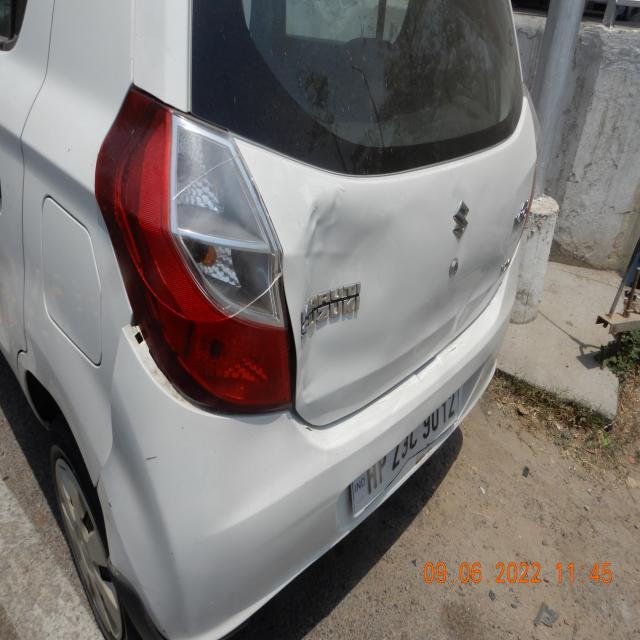damage: (298, 185, 389, 278), (142, 452, 164, 466)
